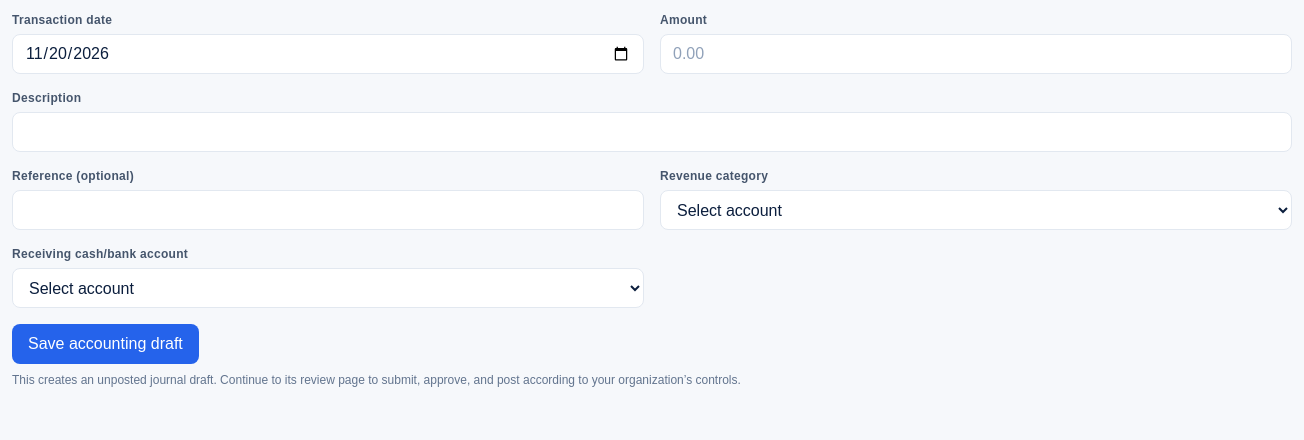
business accounting entry forms › preserves income draft details and allows retry when the save action throws
Select "4000 · Sales" in the dropdown labelled "Revenue category" at (976, 210), box [660, 190, 1292, 230]
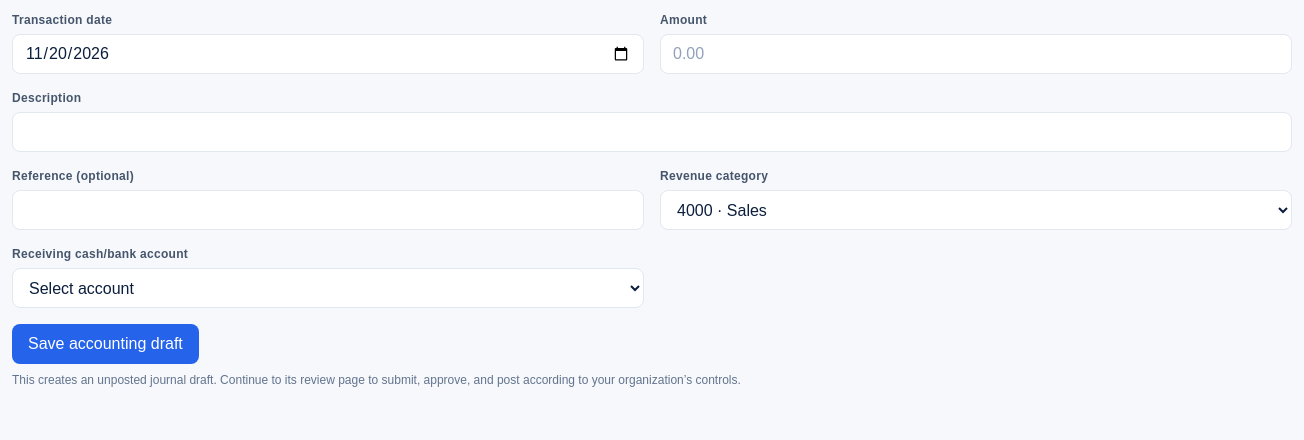
Select "1000 · Cash" in the dropdown labelled "Receiving cash/bank account" at (328, 288), box [12, 268, 644, 308]
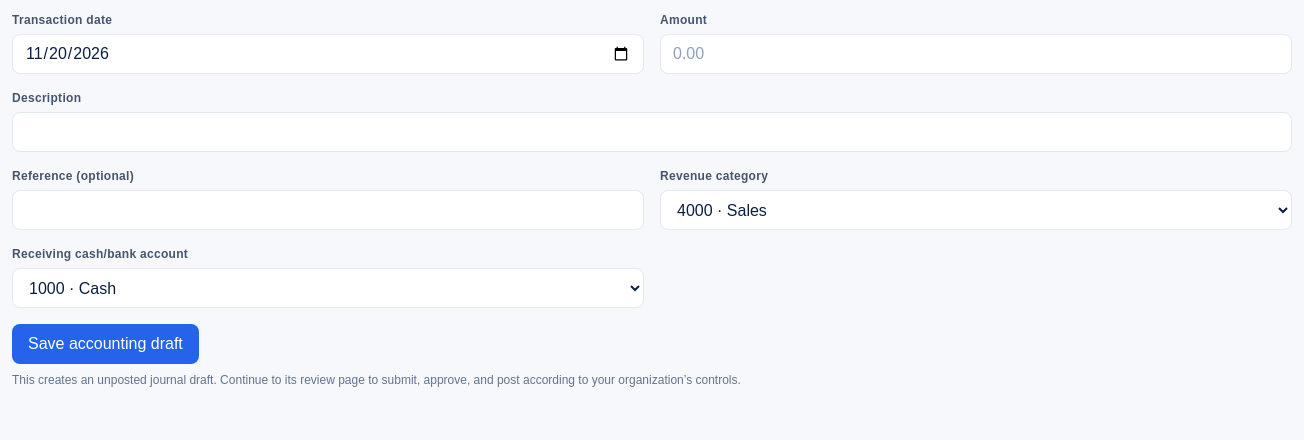
Type "42.50" into the field labelled "Amount" at (976, 54), box [660, 34, 1292, 74]
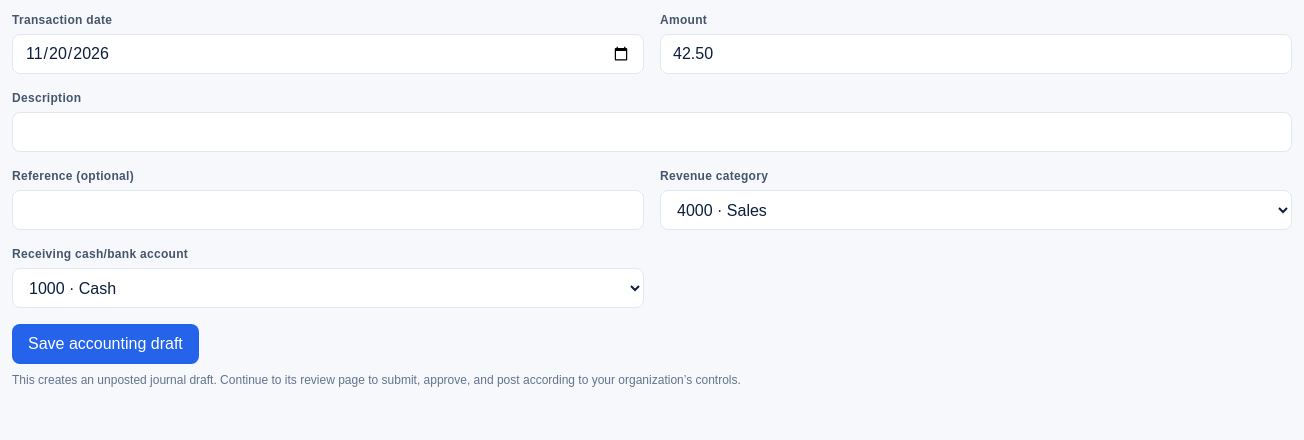
Type "Consulting income" into the field labelled "Description" at (652, 132), box [12, 112, 1292, 152]
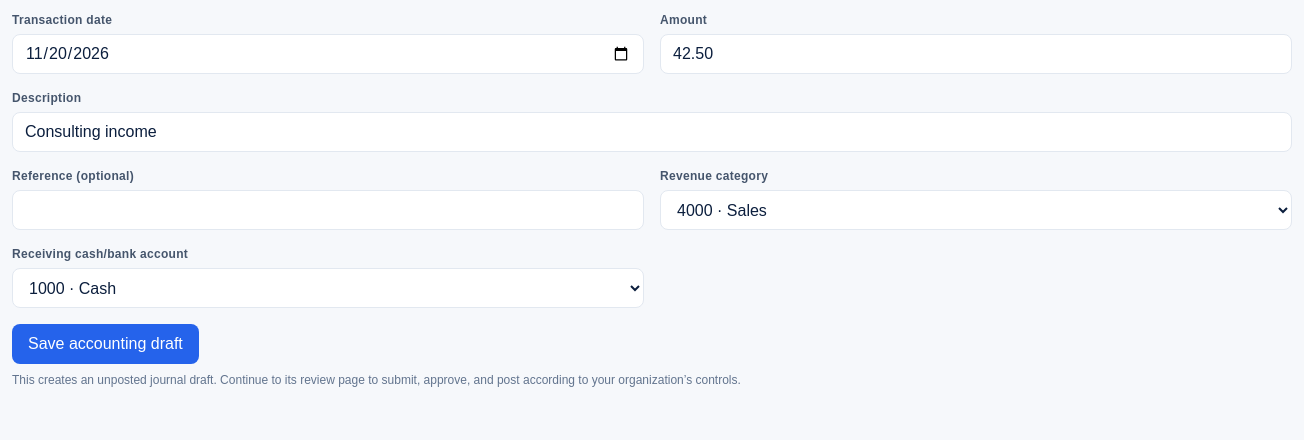
Submit the form labelled "Description"
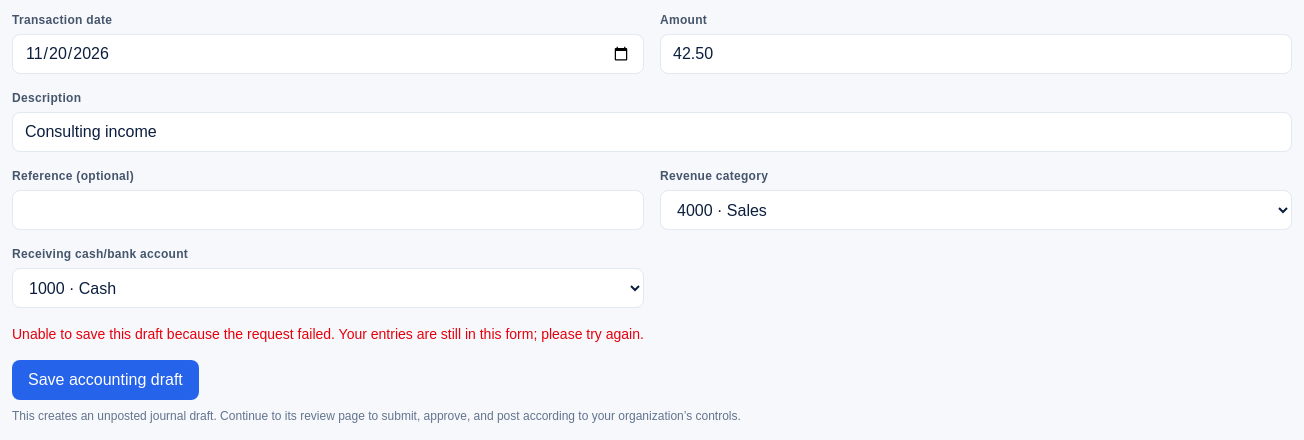
Expected: the button "Save accounting draft" is enabled, [12, 360, 199, 400]
Expected: the message shows "Your entries are still in this form", [12, 326, 644, 342]
